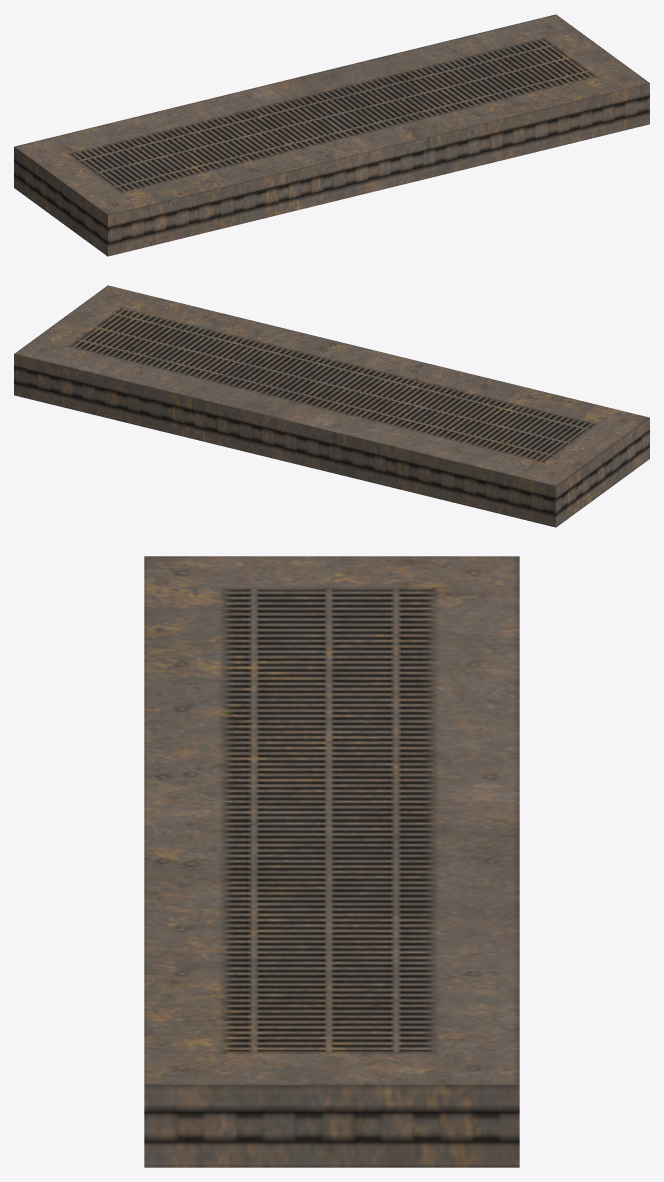
File: lamp.fbx
3 views of the same model, one above another, from view 1: azimuth 30°, elevation 25°; view 2: azimuth 150°, elevation 25°; view 3: azimuth 270°, elevation 25° (orthographic). The views are drawn at different scales.
Parts seen in each view (by area): view 1: Mesh; view 2: Mesh; view 3: Mesh.
Boxes of the visible parts, left/top/right/bottom form: Mesh: left=14, top=14, right=649, bottom=256; Mesh: left=14, top=285, right=649, bottom=527; Mesh: left=144, top=556, right=519, bottom=1167.
Size of the model in its own units: 143 by 10.43 by 43.04.
2 materials, 1 textured.
